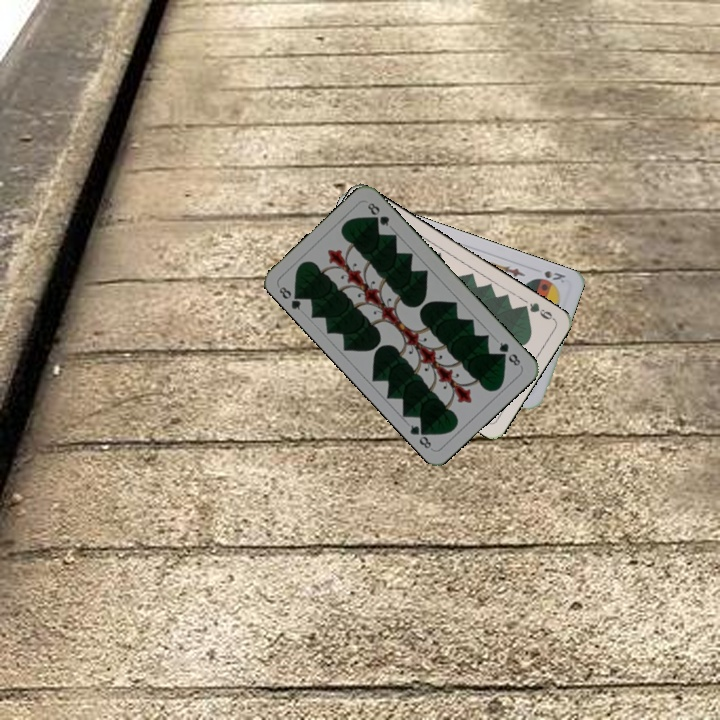G8: (275, 282, 306, 313), (495, 338, 523, 369)
G9: (517, 298, 557, 323)
SK: (540, 266, 568, 286)
